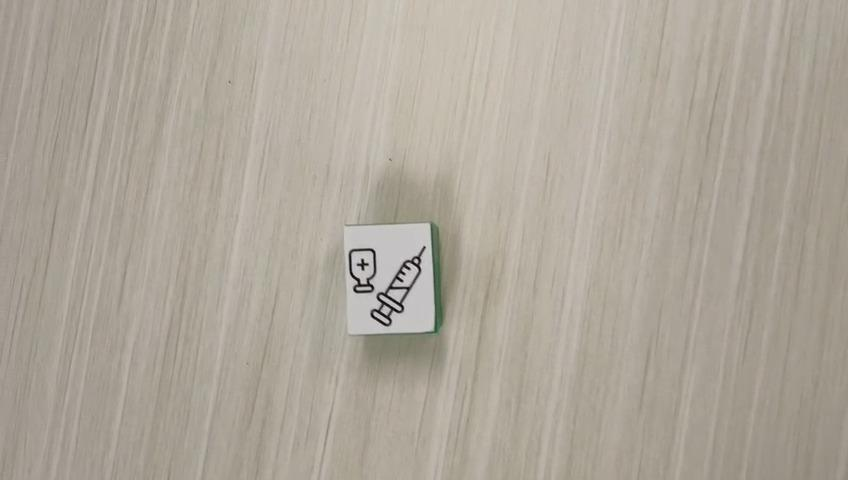antiseptic cream: (342, 220, 442, 336)
